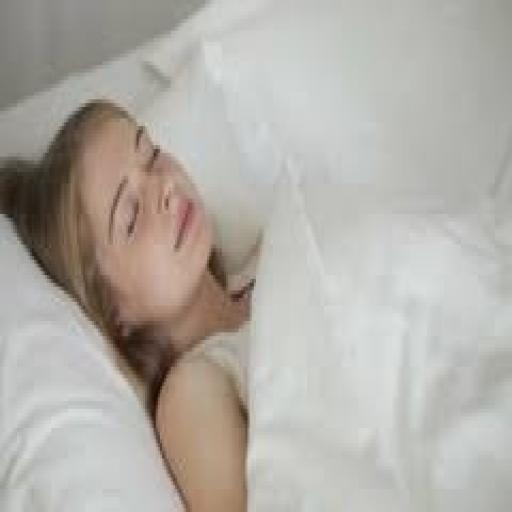sleeping: (0, 91, 262, 508)
